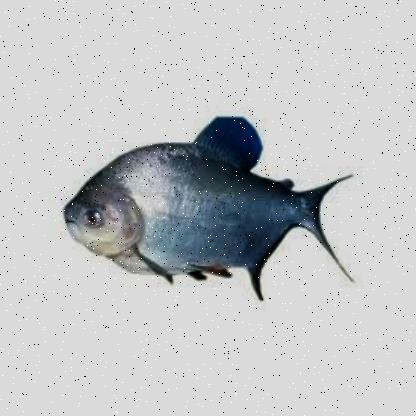ikan-pacu: (62, 125, 322, 283)
